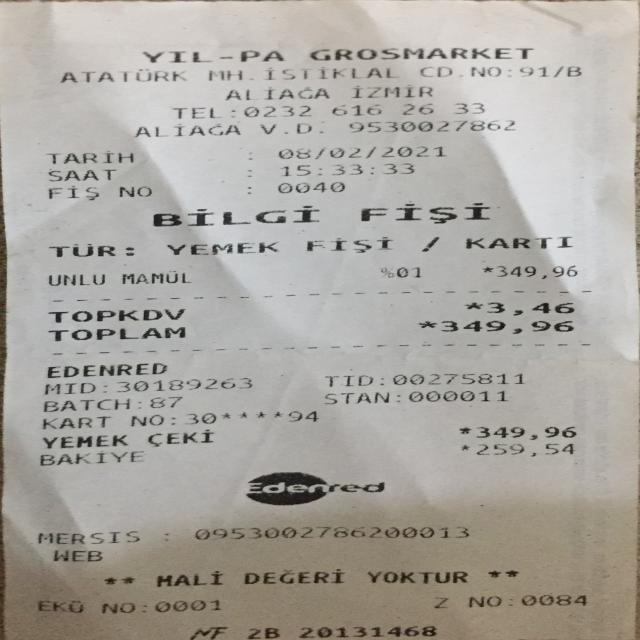text: (192, 524, 468, 540), (308, 46, 532, 62), (151, 204, 319, 225), (360, 201, 489, 223), (61, 66, 190, 84), (348, 119, 514, 132), (165, 238, 276, 257), (393, 371, 533, 386), (441, 318, 572, 334), (35, 526, 138, 546), (115, 377, 252, 392), (462, 232, 570, 251), (276, 146, 444, 158), (366, 566, 466, 586), (243, 568, 343, 587), (296, 625, 436, 638), (245, 481, 383, 494), (280, 162, 413, 175), (304, 235, 392, 254), (406, 388, 506, 404), (475, 424, 575, 440), (45, 363, 166, 376), (263, 66, 394, 78), (42, 432, 128, 450), (47, 310, 185, 321), (47, 328, 185, 339), (133, 122, 239, 136), (476, 442, 574, 457), (223, 86, 328, 99), (48, 240, 114, 259), (496, 264, 574, 280), (146, 429, 214, 447), (46, 150, 133, 164), (142, 47, 209, 65), (486, 301, 572, 315), (39, 452, 146, 463), (350, 84, 432, 98), (153, 596, 220, 613), (40, 414, 111, 430), (41, 398, 130, 410), (322, 390, 388, 406), (120, 270, 189, 284), (259, 120, 323, 135), (46, 168, 115, 181), (242, 104, 310, 117), (47, 184, 99, 201), (276, 180, 344, 193), (42, 379, 95, 395), (236, 46, 282, 64), (519, 594, 586, 606), (204, 64, 245, 83), (34, 598, 85, 613), (47, 272, 105, 285), (329, 372, 371, 389), (378, 264, 422, 280), (52, 548, 102, 562), (330, 103, 380, 116), (117, 183, 151, 200), (172, 105, 214, 118), (99, 600, 138, 614), (188, 626, 226, 640), (129, 412, 162, 428), (291, 407, 321, 424), (147, 394, 183, 408), (466, 594, 501, 608), (187, 410, 215, 427), (470, 64, 503, 78), (245, 625, 278, 639), (418, 65, 450, 79), (401, 102, 432, 115), (519, 66, 554, 77), (454, 101, 483, 114), (418, 318, 436, 334), (464, 300, 481, 316), (570, 61, 583, 80), (378, 371, 391, 389), (506, 61, 518, 80), (553, 61, 565, 80), (124, 239, 134, 259), (454, 67, 468, 81), (432, 595, 447, 608), (459, 424, 470, 440), (170, 410, 179, 428), (482, 264, 492, 280), (461, 442, 471, 457), (220, 52, 233, 62), (244, 150, 255, 161), (101, 378, 108, 395), (246, 72, 256, 83), (135, 395, 142, 410), (242, 168, 254, 176), (395, 388, 400, 406), (507, 594, 512, 607), (246, 182, 250, 196), (231, 105, 235, 118)
